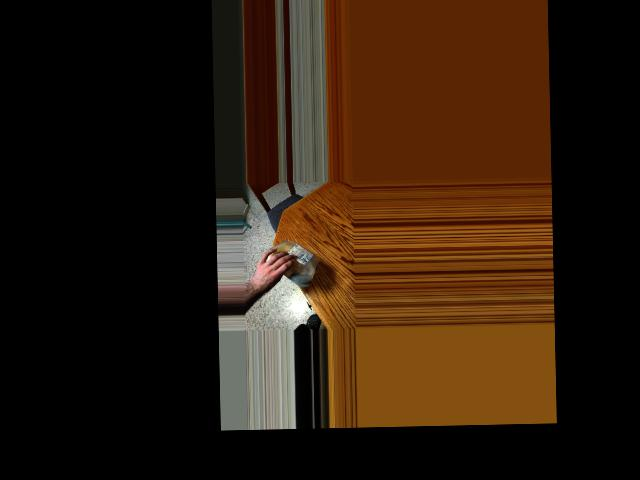cheese: (262, 238, 318, 284)
